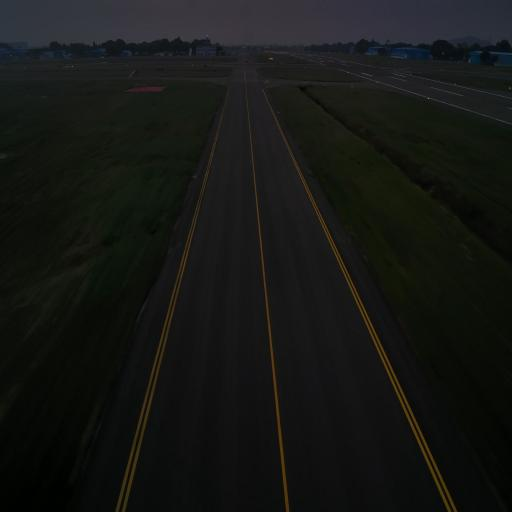on: (194, 171, 198, 177), (310, 168, 312, 176)
